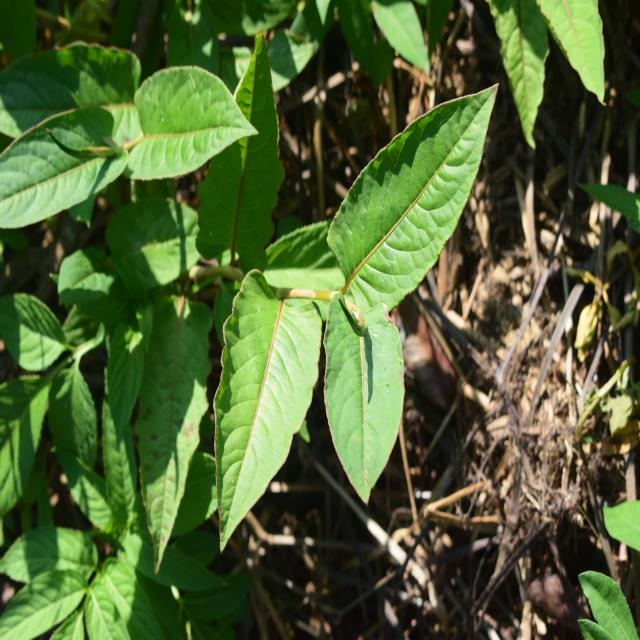Chinese_knotweed: (198, 90, 497, 527), (6, 7, 222, 277)
